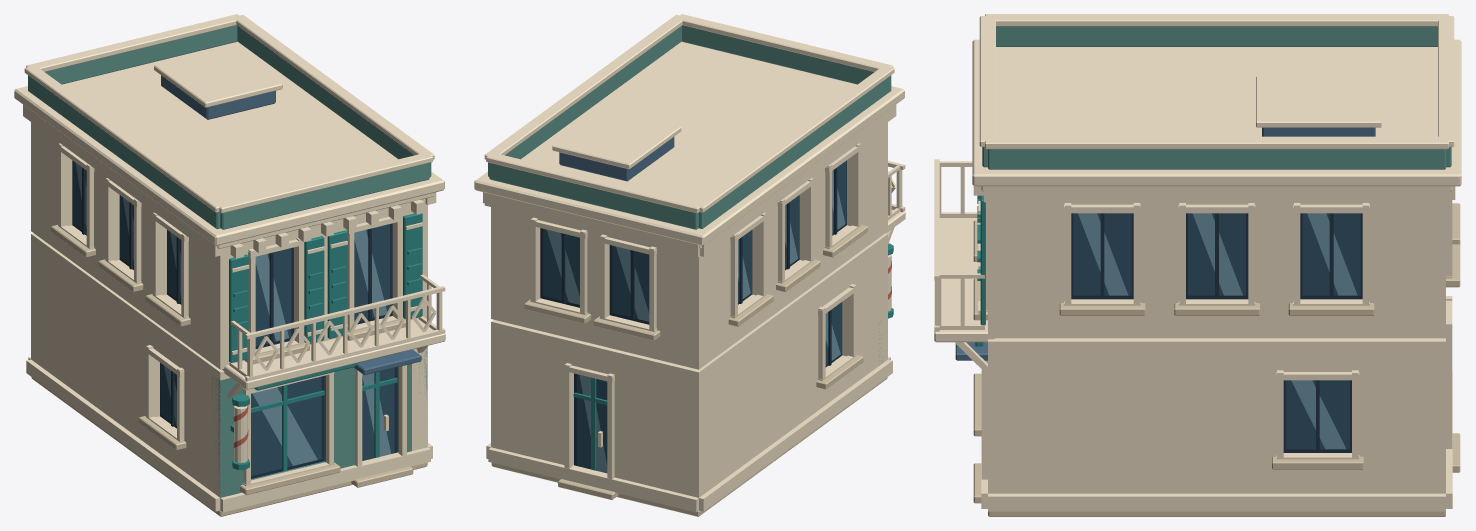
Rendered from neighborhood_barber.glb.
3 renders of one model, left to right at view 1: azimuth 30°, elevation 25°; view 2: azimuth 150°, elevation 25°; view 3: azimuth 270°, elevation 25°, orthographic. The views are drawn at different scales.
Parts seen in each view (by area): view 1: NeighborhoodBarber_StaticMesh; view 2: NeighborhoodBarber_StaticMesh; view 3: NeighborhoodBarber_StaticMesh.
Part boxes in pixels (bbox=[...]): NeighborhoodBarber_StaticMesh: bbox=[14, 14, 445, 516]; NeighborhoodBarber_StaticMesh: bbox=[474, 14, 905, 516]; NeighborhoodBarber_StaticMesh: bbox=[934, 14, 1461, 516].
Size of the model in its own units: 5.37 by 6.96 by 8.81.
